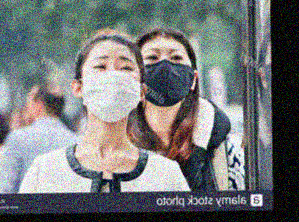with_mask: (80, 52, 142, 124), (138, 45, 194, 108)
